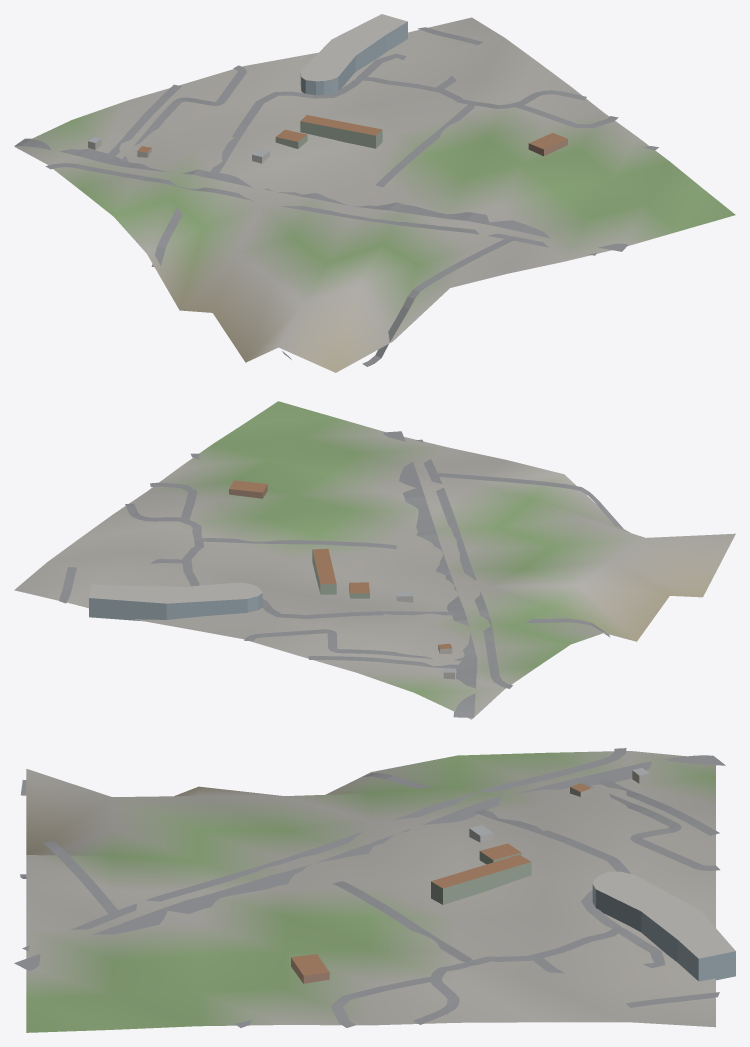
3 renders of one model, top to bottom at view 1: azimuth 30°, elevation 25°; view 2: azimuth 150°, elevation 25°; view 3: azimuth 270°, elevation 25°, orthographic. The views are drawn at different scales.
Visible parts, largest first — view 1: Lo; view 2: Lo; view 3: Lo.
Part boxes in pixels (box(x1,y1,x2,y2)): Lo: box(14, 14, 735, 372); Lo: box(14, 401, 735, 719); Lo: box(14, 748, 735, 1032).
Size of the model in its own units: 261 by 44.18 by 268.
